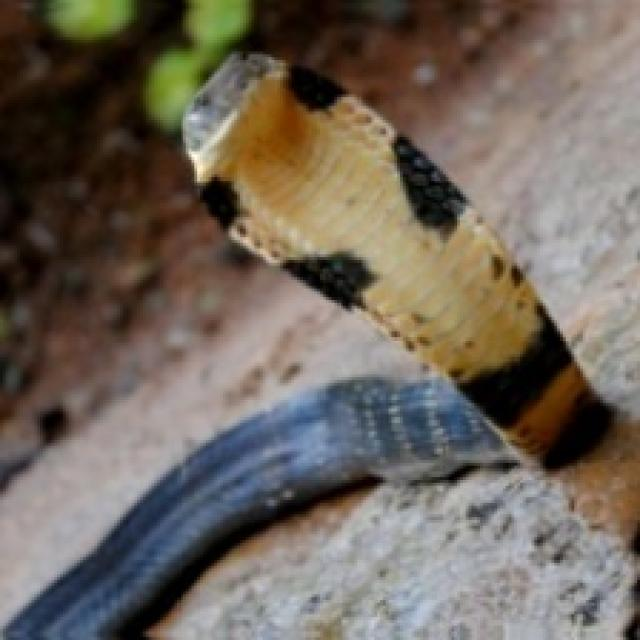king cobra: (3, 54, 609, 637)
